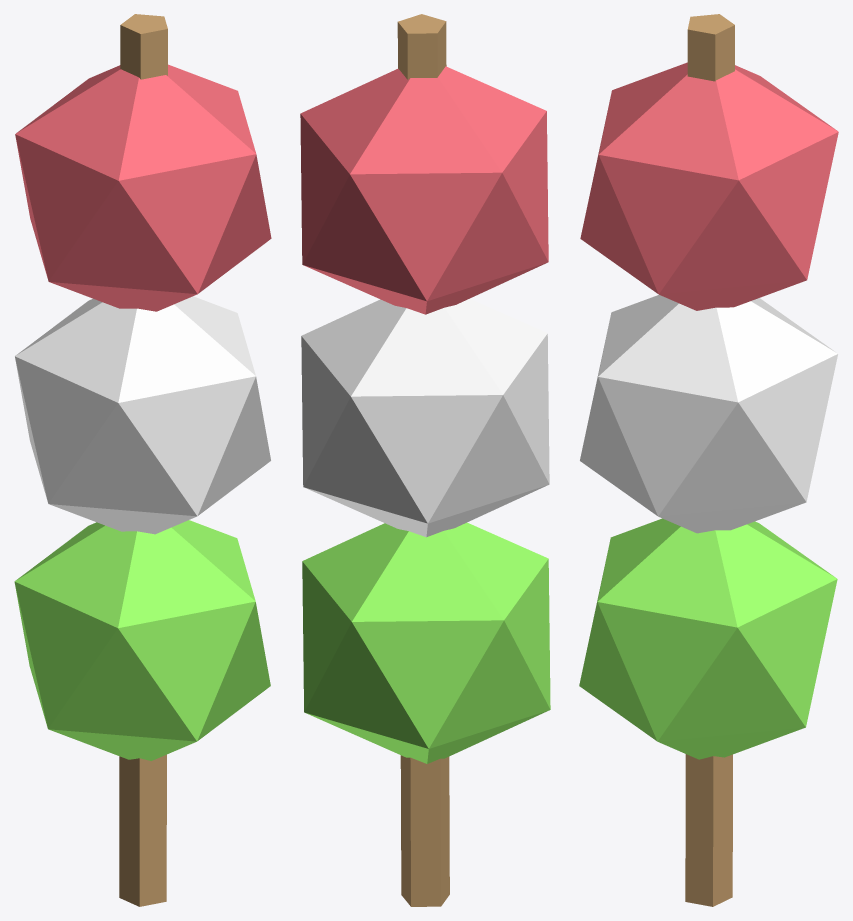
Rendered from dango_3colors.fbx.
The picture shows the model from 3 angles, left to right: view 1: azimuth 30°, elevation 25°; view 2: azimuth 150°, elevation 25°; view 3: azimuth 270°, elevation 25°; orthographic projection.
Parts seen in each view (by area): view 1: dango_3colors; view 2: dango_3colors; view 3: dango_3colors.
Boxes of the visible parts, x1=… form: dango_3colors: x1=14, y1=14, x2=271, y2=906; dango_3colors: x1=300, y1=14, x2=550, y2=906; dango_3colors: x1=579, y1=14, x2=838, y2=906.
Size of the model in its own units: 3.15 by 11.95 by 3.22.
